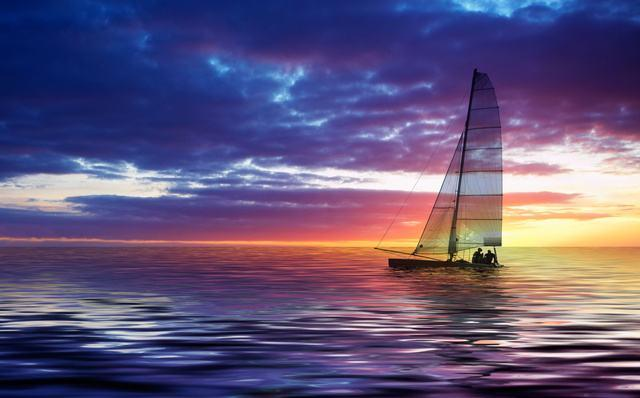fanchuan: (372, 67, 509, 273)
